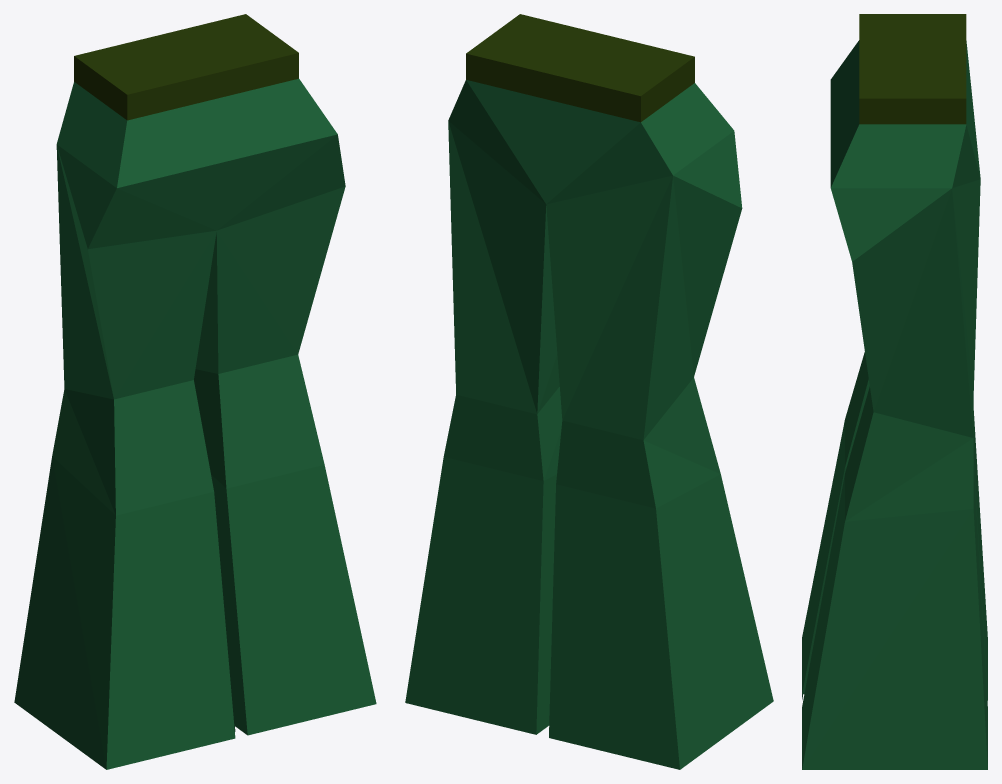
File: player_female_legs_72_0.obj
The picture shows the model from 3 angles, left to right: view 1: azimuth 30°, elevation 25°; view 2: azimuth 150°, elevation 25°; view 3: azimuth 270°, elevation 25°; orthographic projection.
Bounding box in the file's own units: 0.3438 × 0.7812 × 0.2031.
